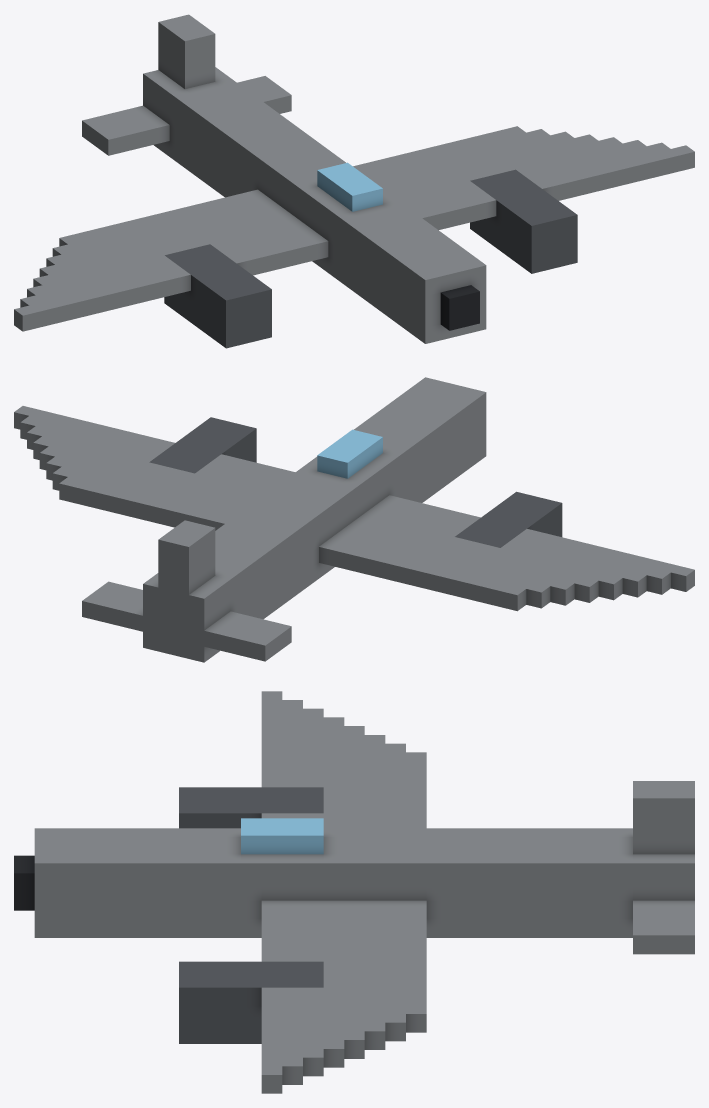
The model's file is u_bomber.glb.
3 views of the same model, one above another, from view 1: azimuth 30°, elevation 25°; view 2: azimuth 150°, elevation 25°; view 3: azimuth 270°, elevation 25° (orthographic). The views are drawn at different scales.
Parts seen in each view (by area): view 1: u_bomber_body; view 2: u_bomber_body; view 3: u_bomber_body.
Part boxes in pixels (bbox=[...]): u_bomber_body: bbox=[14, 14, 694, 348]; u_bomber_body: bbox=[14, 377, 694, 662]; u_bomber_body: bbox=[14, 691, 694, 1093].
Size of the model in its own units: 2.75 by 0.5 by 2.06.
1 material, 1 textured.
